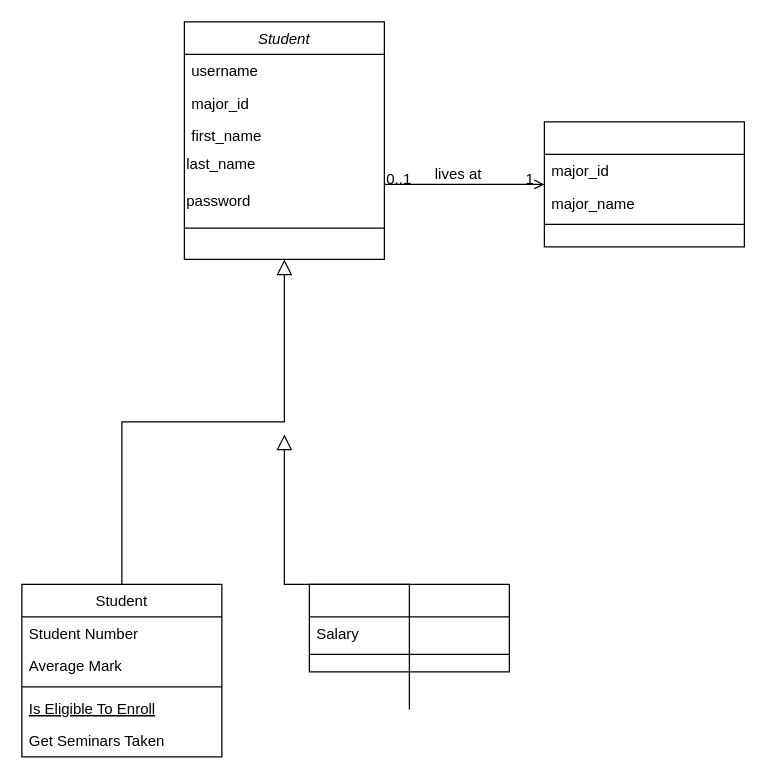
Some shapes in this 766 by 783 pixel diagram are drawn without their labels. Each missing label, with the box of its shape:
majors: (543, 121, 744, 247)
Professor: (308, 583, 509, 672)
